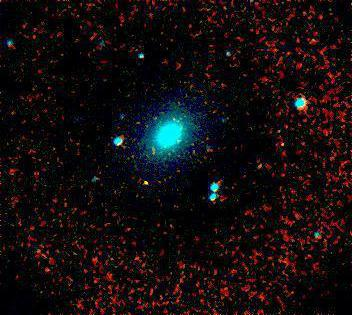star: (132, 167, 162, 197)
